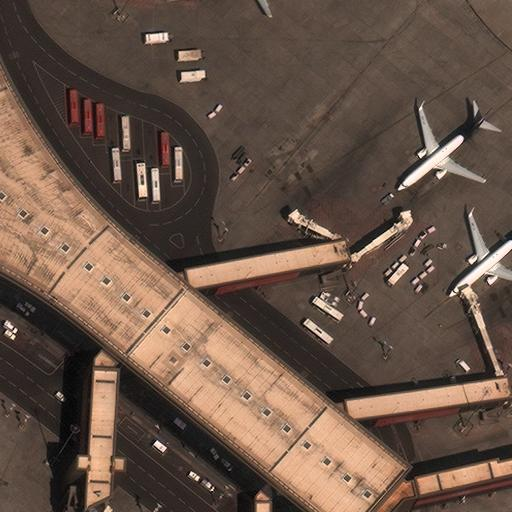Medium Civil Transport: (398, 108, 491, 189), (449, 215, 511, 295)
